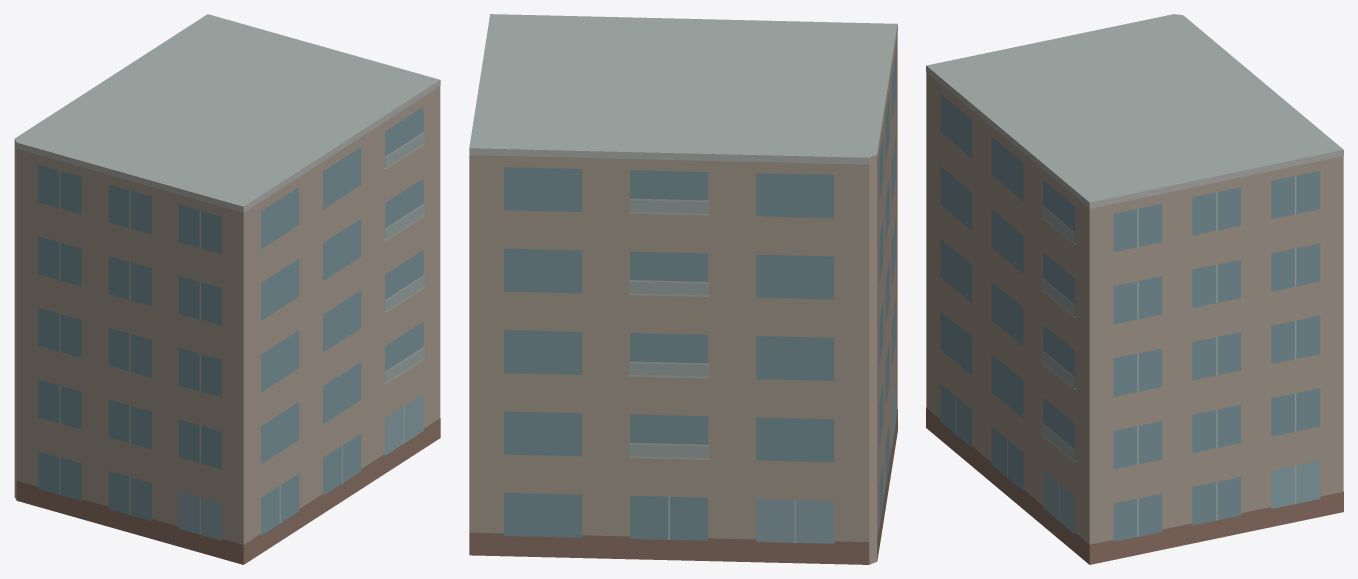
The model's file is survey-upis-32701887.glb.
The picture shows the model from 3 angles, left to right: view 1: azimuth 30°, elevation 25°; view 2: azimuth 150°, elevation 25°; view 3: azimuth 270°, elevation 25°; orthographic projection. The views are drawn at different scales.
Parts seen in each view (by area): view 1: survey-upis-32701887.tmp; view 2: survey-upis-32701887.tmp; view 3: survey-upis-32701887.tmp.
Boxes of the visible parts, bbox=[...] form: survey-upis-32701887.tmp: bbox=[14, 14, 440, 564]; survey-upis-32701887.tmp: bbox=[469, 14, 897, 564]; survey-upis-32701887.tmp: bbox=[926, 14, 1343, 564].
Size of the model in its own units: 15.98 by 14.3 by 14.95.
